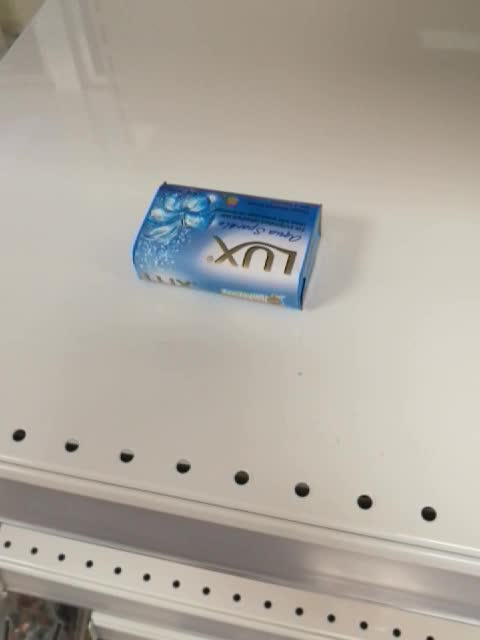soap: (129, 180, 325, 315)
